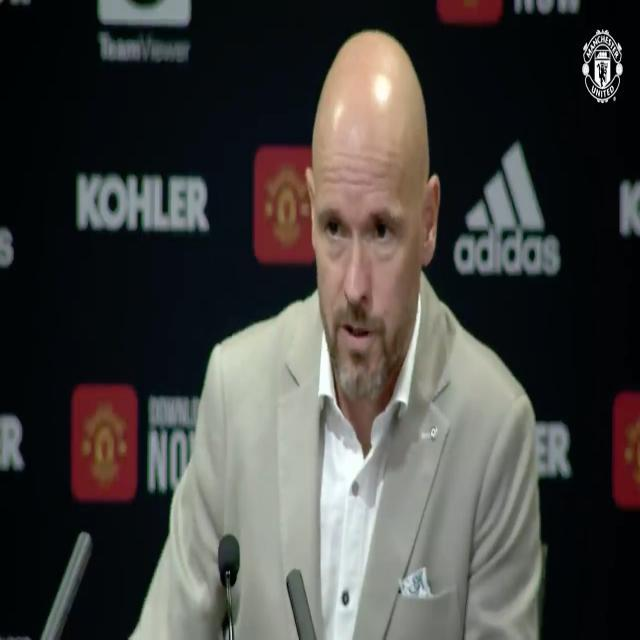Adidas: (452, 140, 561, 277)
Kohler: (77, 173, 210, 233)
TeamViewer: (100, 0, 192, 64)
